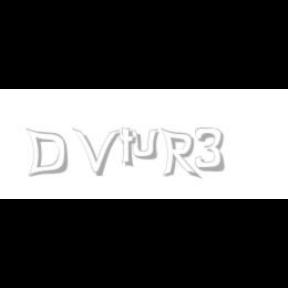3: (194, 128, 225, 172)
D: (26, 128, 68, 178)
R: (160, 128, 198, 180)
V: (72, 128, 120, 176)
t: (119, 128, 141, 168)
u: (128, 128, 162, 160)
